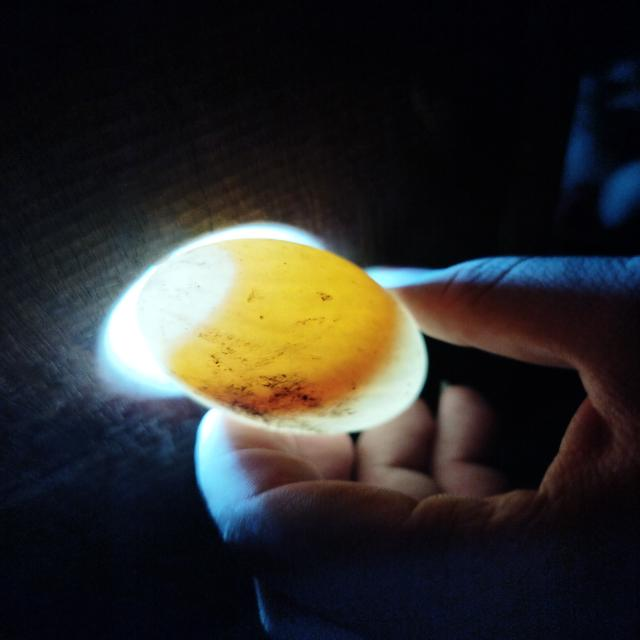Camara de Ar: (134, 246, 232, 340)
Gema Quebrada: (197, 341, 384, 420)
